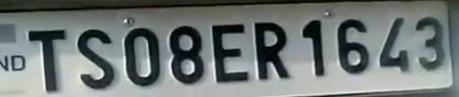0: (122, 24, 163, 89)
1: (299, 18, 332, 79)
3: (411, 13, 446, 72)
4: (375, 14, 412, 74)
6: (336, 16, 373, 74)
8: (166, 24, 209, 85)
E: (208, 21, 253, 84)
R: (249, 18, 292, 82)
S: (75, 26, 117, 90)
T: (24, 25, 73, 93)
